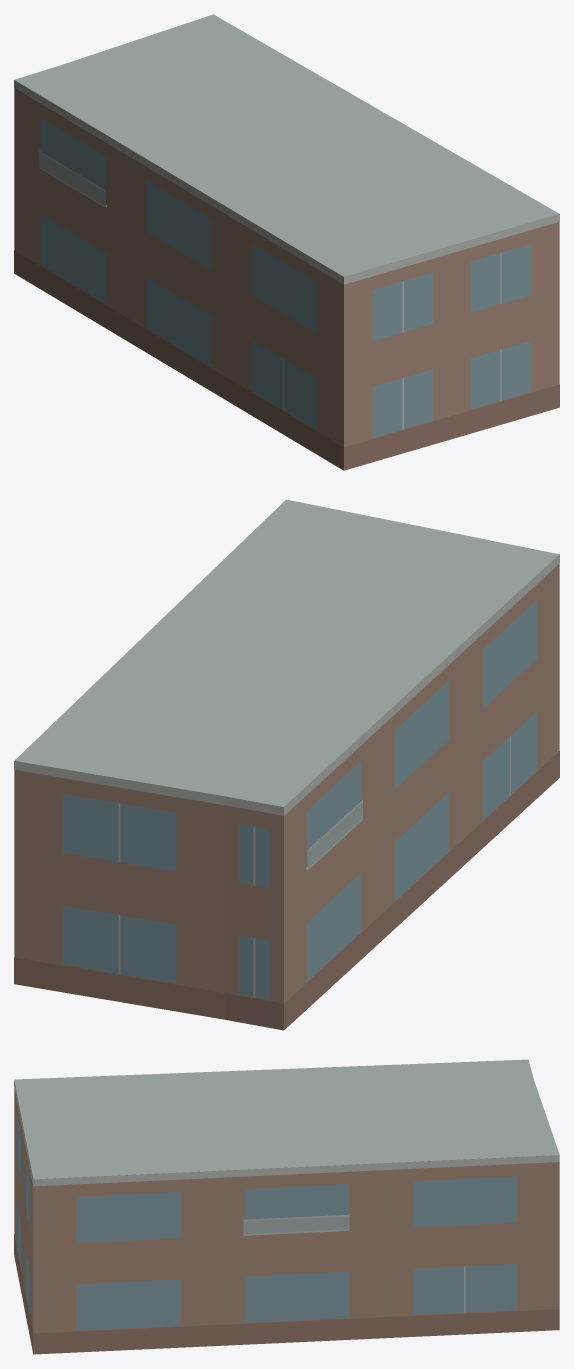
File: survey-upis-32680224.glb
3 renders of one model, top to bottom at view 1: azimuth 30°, elevation 25°; view 2: azimuth 150°, elevation 25°; view 3: azimuth 270°, elevation 25°, orthographic. The views are drawn at different scales.
Visible parts, largest first — view 1: survey-upis-32680224.tmp; view 2: survey-upis-32680224.tmp; view 3: survey-upis-32680224.tmp.
Boxes of the visible parts, bbox=[...] form: survey-upis-32680224.tmp: bbox=[14, 14, 559, 470]; survey-upis-32680224.tmp: bbox=[14, 499, 559, 1030]; survey-upis-32680224.tmp: bbox=[14, 1059, 559, 1354].
Size of the model in its own units: 8.97 by 6.1 by 17.25.
